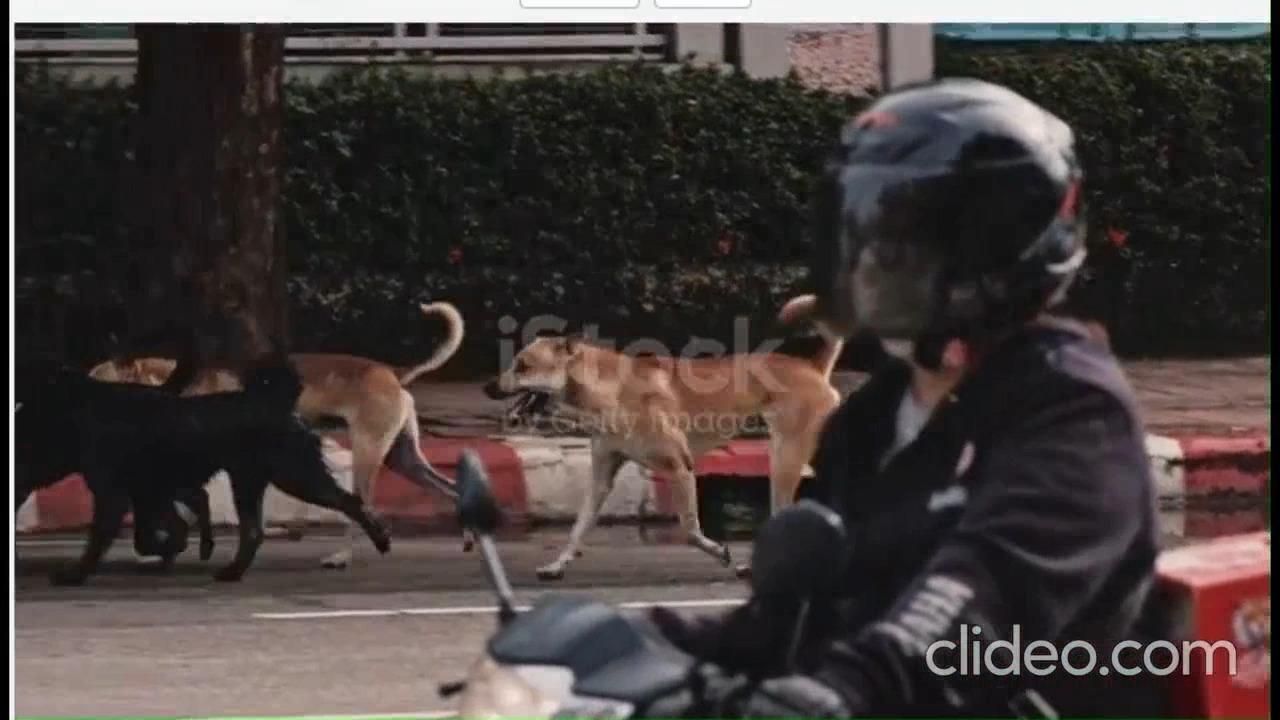dog: (491, 291, 846, 576), (91, 294, 490, 545), (10, 365, 394, 586)
